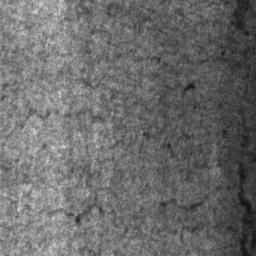Crazing: (0, 101, 253, 256), (41, 0, 251, 98), (1, 77, 101, 101), (204, 105, 256, 148), (164, 7, 223, 35), (106, 3, 155, 35), (231, 0, 250, 36), (79, 241, 103, 256)
